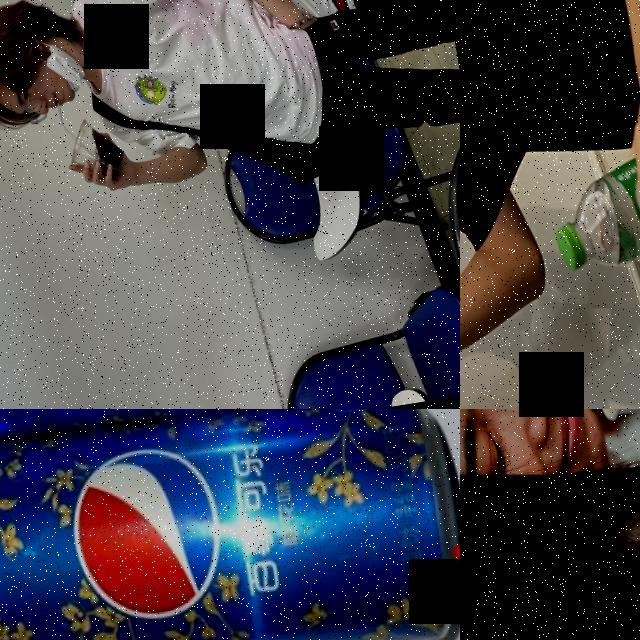bottle: (538, 86, 640, 276)
can: (0, 409, 460, 640)
cup: (64, 112, 129, 186)
